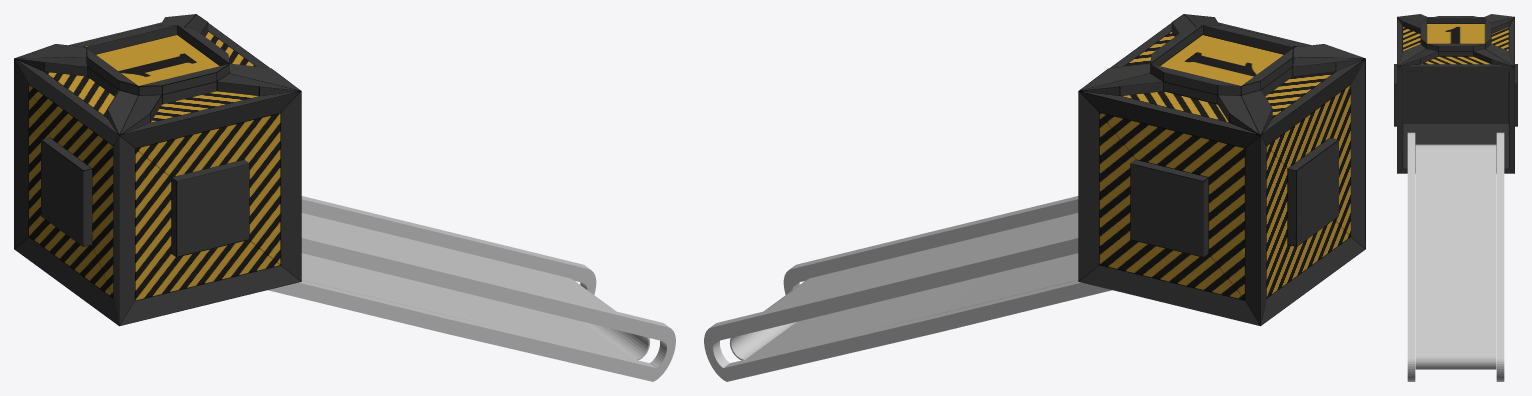
The model's file is spawnBox_fbx.fbx.
The picture shows the model from 3 angles, left to right: view 1: azimuth 30°, elevation 25°; view 2: azimuth 150°, elevation 25°; view 3: azimuth 270°, elevation 25°; orthographic projection. The views are drawn at different scales.
Visible parts, largest first — view 1: Cube, Cylinder.004, Cylinder.003; view 2: Cube, Cylinder.004, Cylinder.003; view 3: Cylinder.003, Cube, Cylinder.004.
Part boxes in pixels (bbox=[...]): Cube: bbox=[14, 14, 301, 326]; Cylinder.004: bbox=[267, 196, 675, 381]; Cylinder.003: bbox=[301, 213, 650, 360]; Cube: bbox=[1078, 14, 1365, 326]; Cylinder.004: bbox=[704, 196, 1112, 381]; Cylinder.003: bbox=[729, 213, 1078, 360]; Cylinder.003: bbox=[1415, 144, 1496, 369]; Cube: bbox=[1394, 14, 1517, 173]; Cylinder.004: bbox=[1407, 132, 1504, 381].
Bounding box in the file's own units: 823 × 558 × 276.
